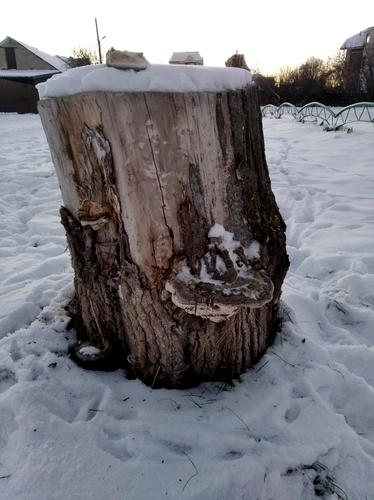Ganoderma - Fruit Body: (166, 264, 275, 319)
